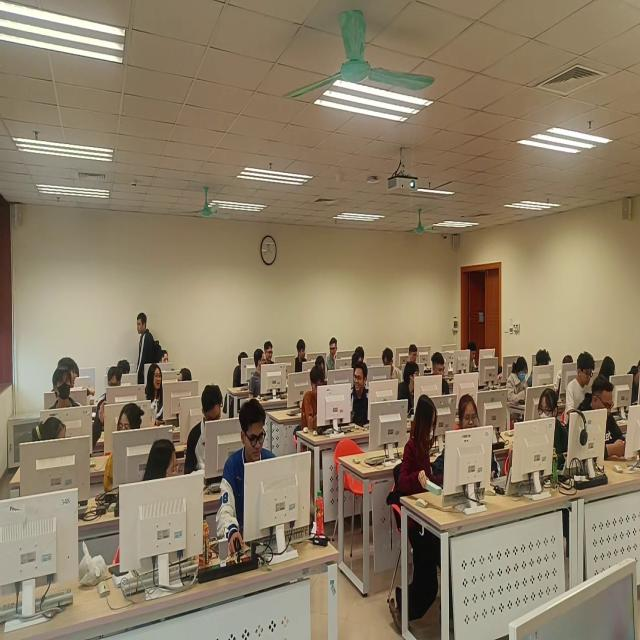raise_head: (49, 366, 83, 410), (146, 364, 163, 406), (159, 349, 171, 364)
stand: (137, 312, 162, 387)
using_computer: (216, 399, 278, 554), (459, 395, 501, 479), (186, 384, 224, 475), (566, 351, 597, 415), (95, 368, 123, 426), (302, 366, 326, 432), (507, 357, 529, 406), (432, 352, 451, 396), (627, 359, 640, 406), (599, 356, 617, 379), (469, 342, 480, 373), (265, 341, 276, 365), (317, 356, 327, 381), (409, 344, 419, 364), (119, 360, 132, 375), (77, 363, 81, 378)
using_phone: (578, 377, 627, 460)
